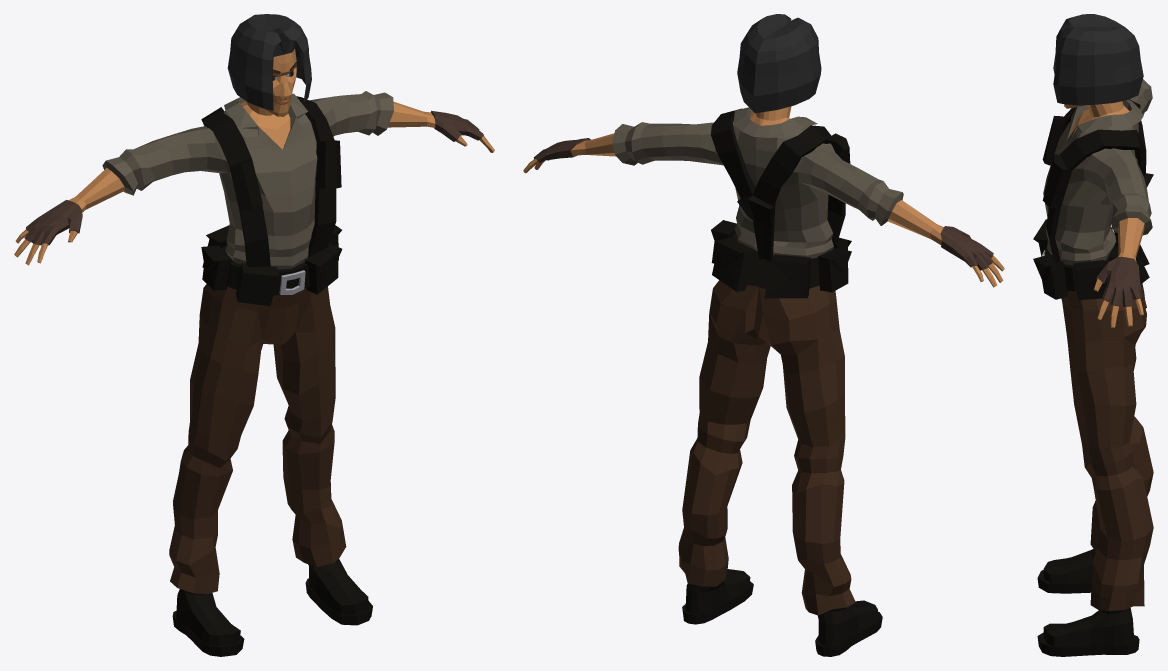
The model's file is Adventure_M_1.fbx.
3 views of the same model, side by side, from view 1: azimuth 30°, elevation 25°; view 2: azimuth 150°, elevation 25°; view 3: azimuth 270°, elevation 25° (orthographic).
Parts seen in each view (by area): view 1: Adventure_M_2, Adventure_M_2.001, Adventure_M_2.007, Adventure_M_2.004, Adventure_M_2.006; view 2: Adventure_M_2, Adventure_M_2.001, Adventure_M_2.005, Adventure_M_2.002, Adventure_M_2.006; view 3: Adventure_M_2, Adventure_M_2.001, Adventure_M_2.004, Adventure_M_2.003, Adventure_M_2.007, Adventure_M_2.002.
Boxes of the visible parts, x1,y1,x2,y2 form: Adventure_M_2: (14, 14, 494, 656); Adventure_M_2.001: (201, 96, 341, 266); Adventure_M_2.007: (236, 263, 279, 306); Adventure_M_2.004: (304, 243, 342, 294); Adventure_M_2.006: (201, 245, 231, 290); Adventure_M_2: (523, 14, 1004, 656); Adventure_M_2.001: (710, 108, 850, 262); Adventure_M_2.005: (764, 254, 811, 298); Adventure_M_2.002: (712, 238, 755, 291); Adventure_M_2.006: (818, 248, 851, 292); Adventure_M_2: (1037, 14, 1153, 656); Adventure_M_2.001: (1042, 99, 1153, 261); Adventure_M_2.004: (1033, 254, 1068, 299); Adventure_M_2.003: (1073, 260, 1106, 299); Adventure_M_2.007: (1033, 219, 1047, 256); Adventure_M_2.002: (1109, 247, 1149, 284).
Bounding box in the file's own units: 149 × 180 × 33.18.
1 material, 1 textured.
